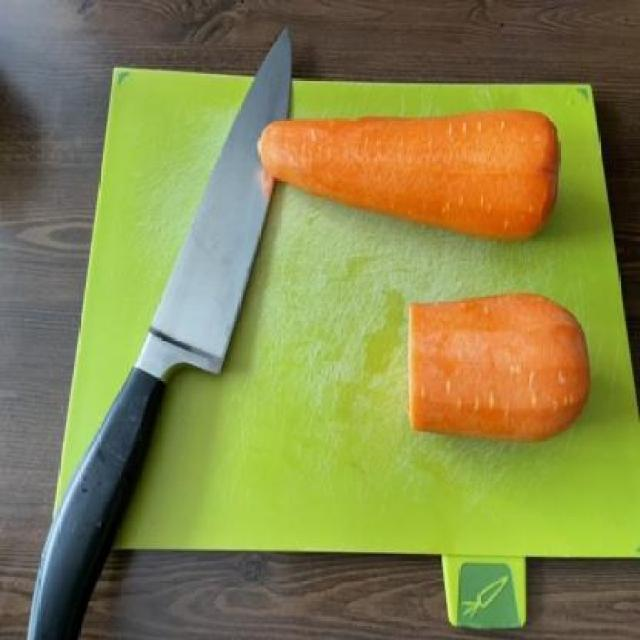carrot: (252, 108, 565, 242), (403, 288, 597, 450)
